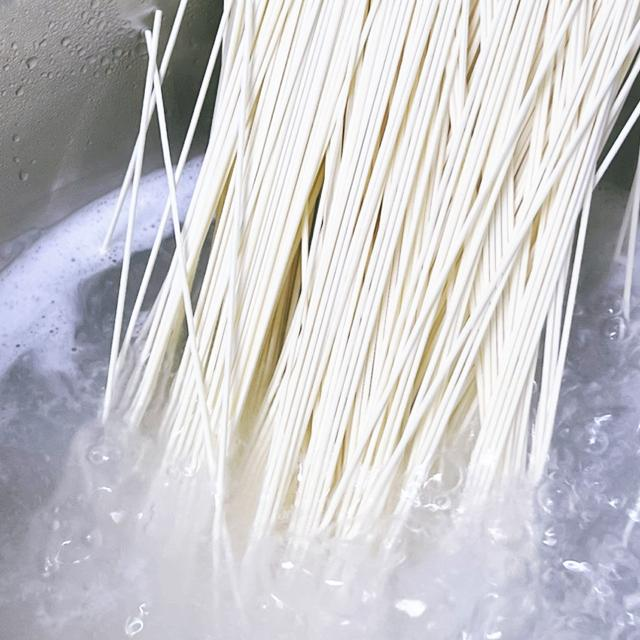noodles: (205, 0, 640, 526)
